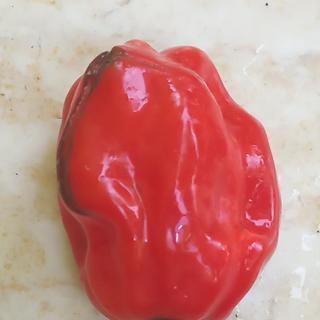striped: (49, 40, 134, 230)
